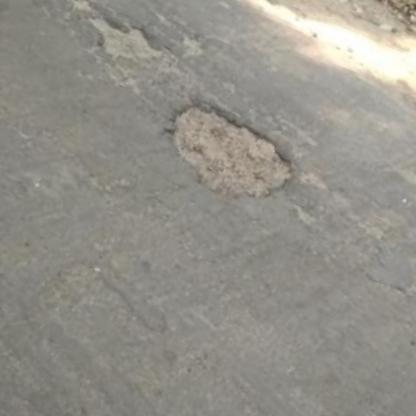pothole: (151, 89, 311, 220), (75, 3, 172, 76)
